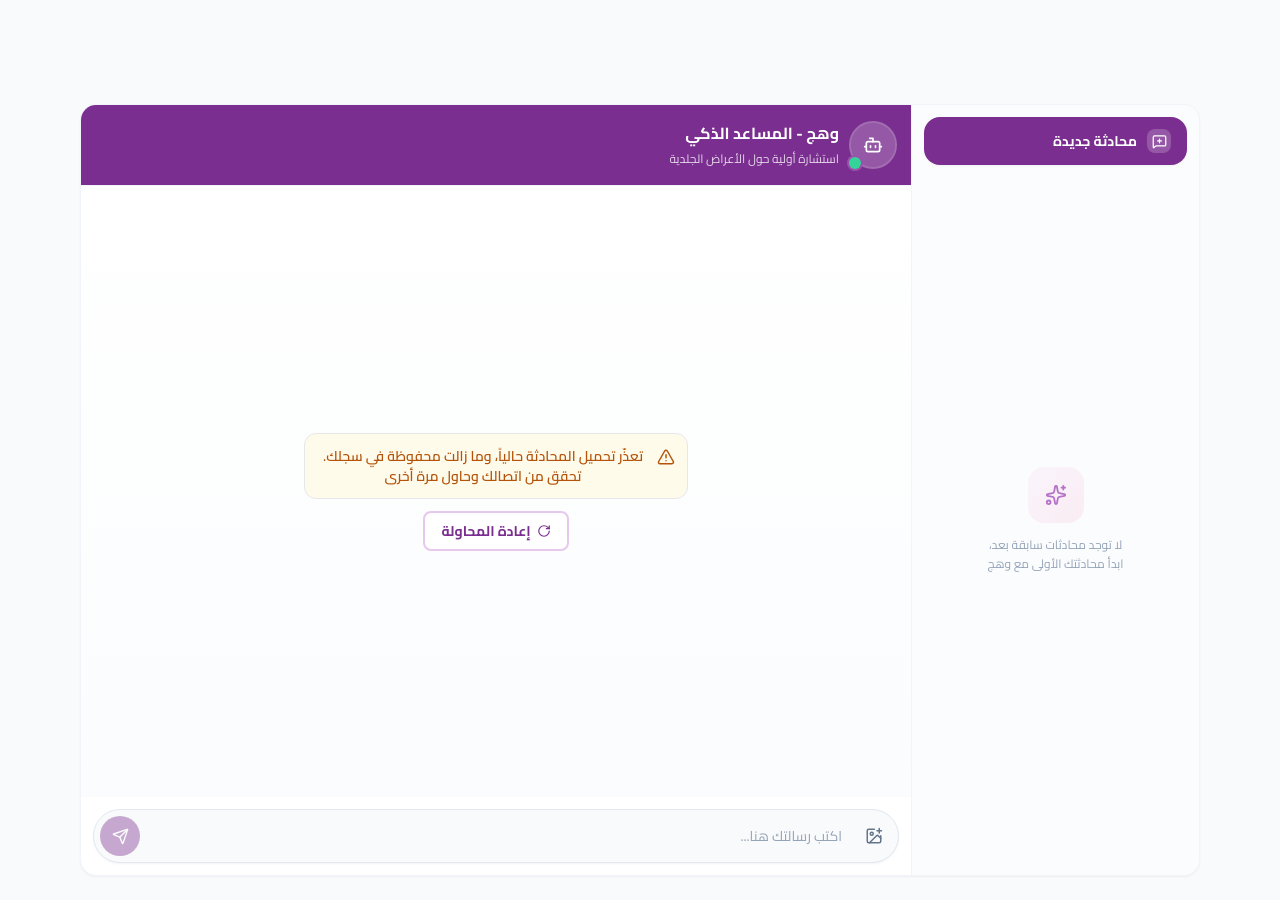
it: ChatPage conversation pointers (FE-04) › legacy single-conversation pointer › keeps the legacy pointer on a network error and migrates it on retry
The width and height of the screenshot is (1280, 900).
Click the button "إعادة المحاولة". click: (496, 530)
box: left=423, top=510, right=569, bottom=550
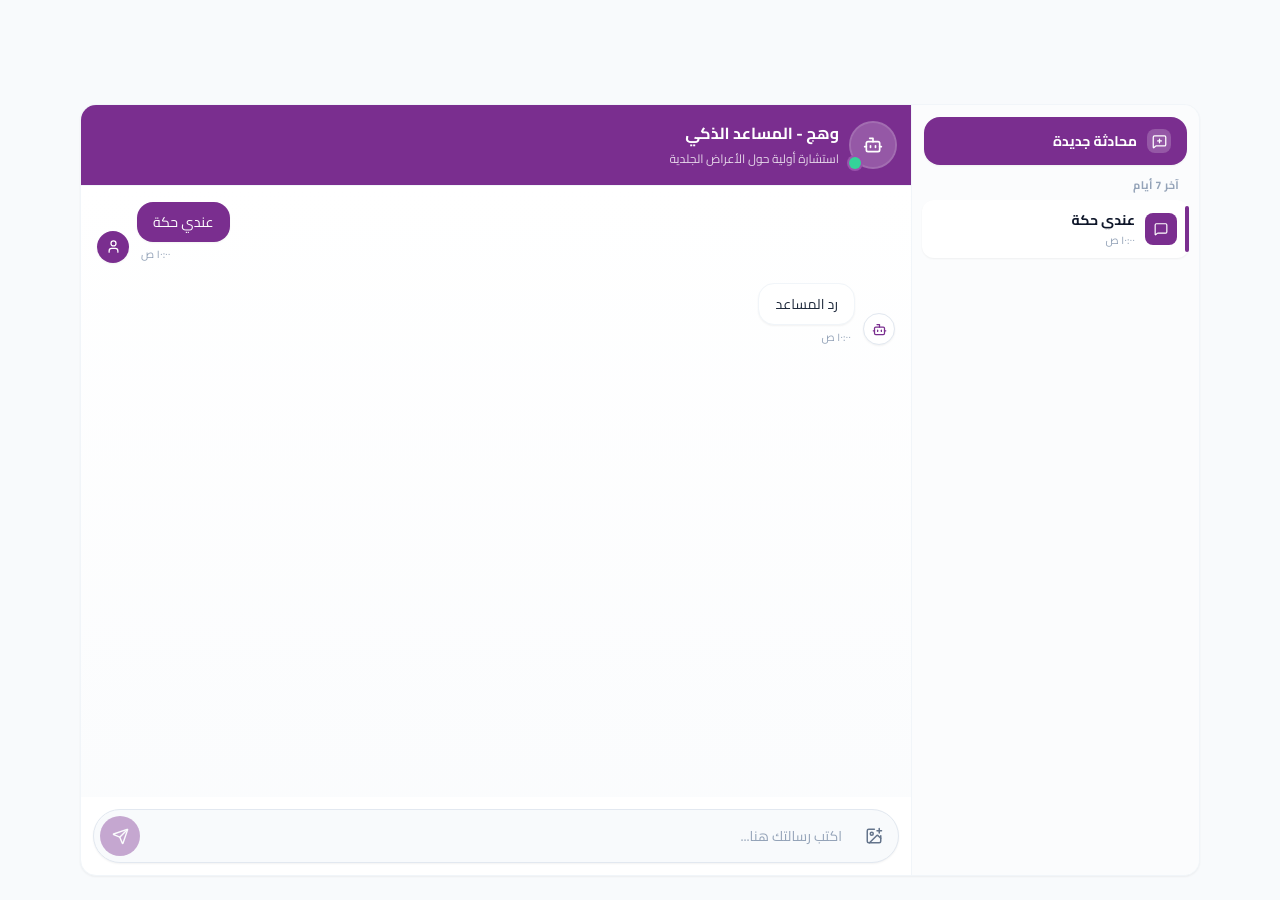
Now the text "رد المساعد" is shown, box left=776, top=294, right=838, bottom=314
